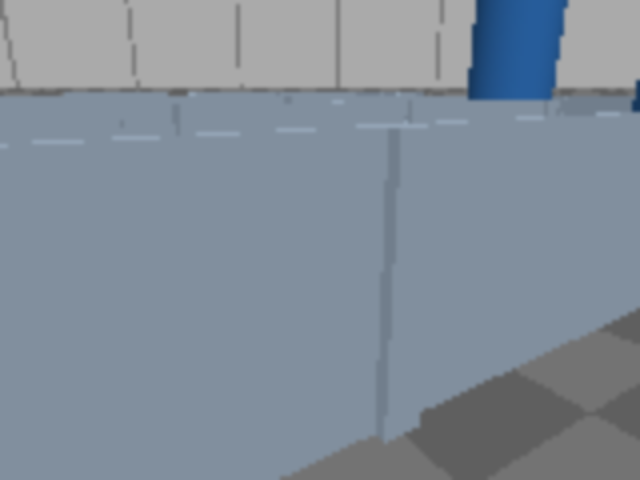person: (620, 0, 638, 214)
